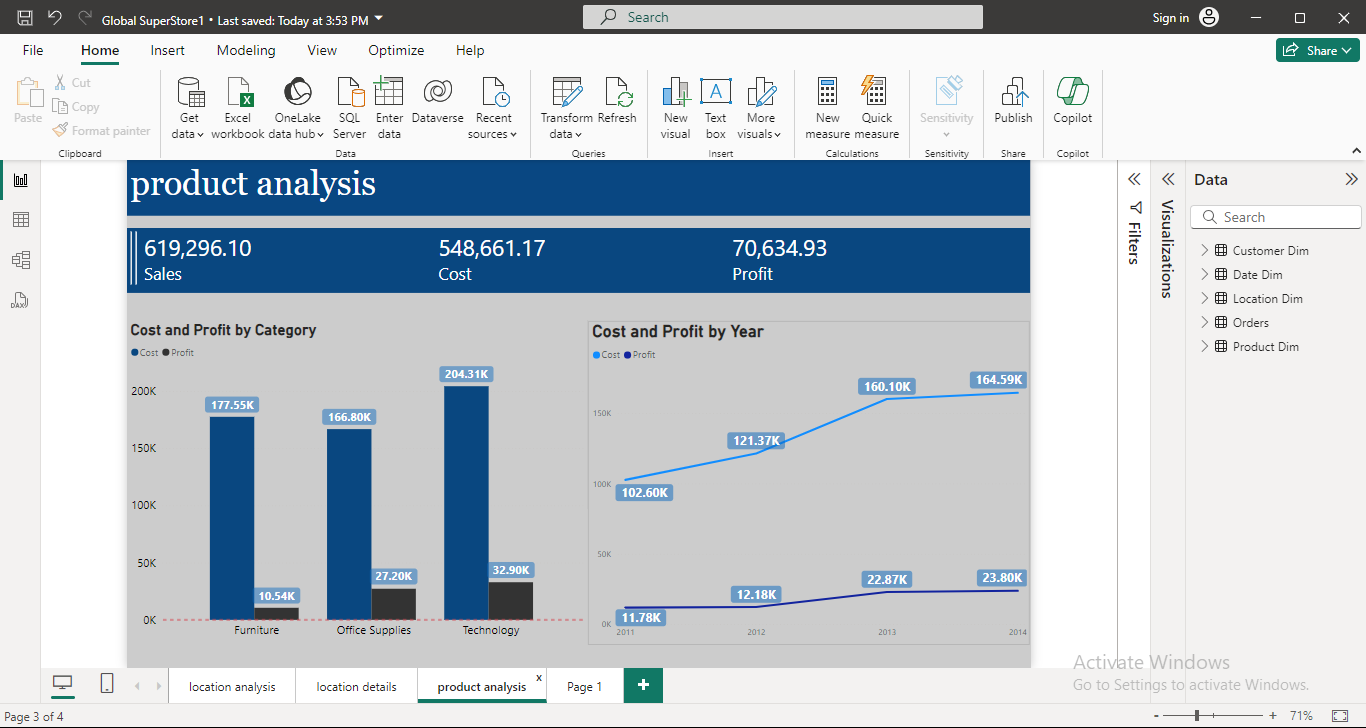

Layout of this report page (visuals, bound fields, positions):
{"tool":"powerbi","page":{"name":"product analysis","canvas":[1280,720],"ordinal":2},"visuals":[{"type":"textbox","box":[0,0,1280,78.7],"z":0},{"type":"multiRowCard","fields":{"Values":["Sum(Orders.Profit)","Sum(Orders.Sales)","Sum(Orders.Cost)"]},"box":[0,96.8,1280,91.9],"z":1000},{"type":"clusteredColumnChart","fields":{"Y":["Sum(Orders.Cost)","Sum(Orders.Profit)"],"Category":["Product Dim.Category Hierarchy.Category","Product Dim.Category Hierarchy.Sub-Category","Product Dim.Category Hierarchy.Product ID"]},"box":[0,228.2,640.6,459.2],"z":2000},{"type":"lineChart","fields":{"Category":["Date Dim.Year Hierarchy.Year","Date Dim.Year Hierarchy.Quarter","Date Dim.Year Hierarchy.Month"],"Y":["Sum(Orders.Cost)","Sum(Orders.Profit)"]},"box":[653.4,228.2,610.9,459.2],"z":3000}]}

Visuals, with their boxes on the page's 1280x720 design canvas (x1, y1, x2, y2). These are canvas units, not pixel positions in the 1366x728 screenshot, which may show the page scaled, cropped or inside an application window:
textbox: locate(0, 0, 1280, 79)
multiRowCard - Sum(Orders.Profit) x Sum(Orders.Sales): locate(0, 97, 1280, 189)
clusteredColumnChart - Sum(Orders.Cost) x Sum(Orders.Profit): locate(0, 228, 641, 687)
lineChart - Date Dim.Year Hierarchy.Year x Date Dim.Year Hierarchy.Quarter: locate(653, 228, 1264, 687)
